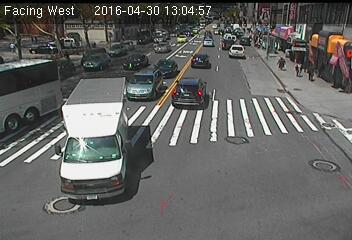neg: (151, 148, 179, 186), (108, 98, 136, 135), (201, 161, 227, 195), (87, 144, 112, 177), (309, 150, 333, 183), (182, 84, 206, 116), (129, 64, 153, 96), (20, 107, 44, 139), (67, 106, 91, 137), (45, 72, 68, 102), (228, 118, 248, 144), (50, 138, 70, 164), (262, 90, 281, 115), (324, 24, 343, 49), (171, 27, 190, 51), (95, 39, 112, 62), (37, 29, 53, 51), (54, 193, 70, 214), (231, 41, 246, 60)
pos: (272, 53, 288, 73), (306, 60, 321, 80), (292, 61, 304, 78)
